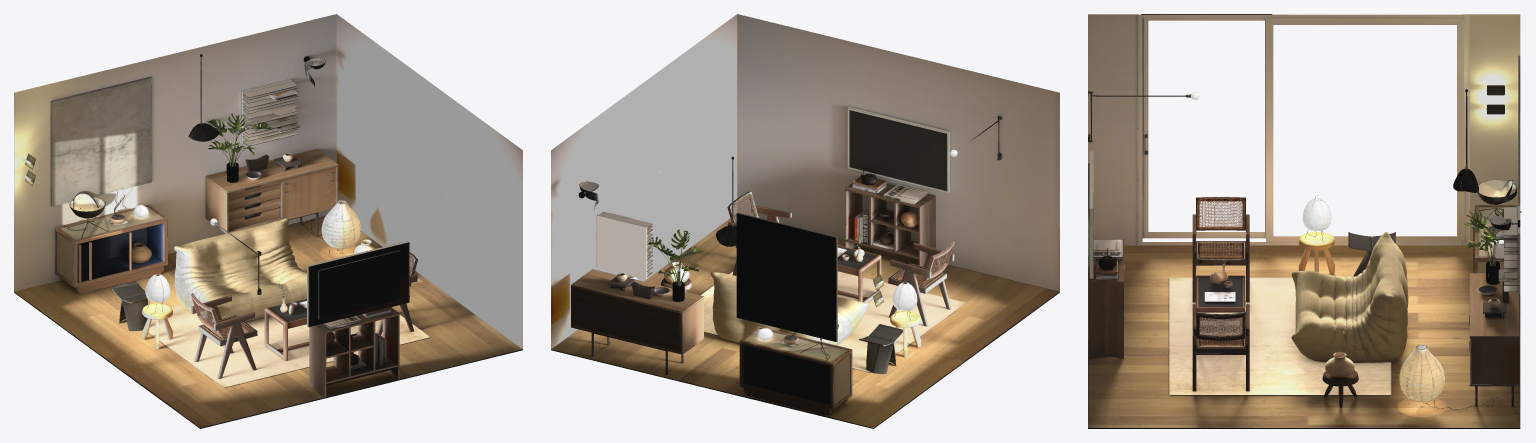
File: compressed_alt4.glb
3 renders of one model, left to right at view 1: azimuth 30°, elevation 25°; view 2: azimuth 150°, elevation 25°; view 3: azimuth 270°, elevation 25°, orthographic. The views are drawn at different scales.
Visible parts, largest first — view 1: alt44_Baked.004; view 2: alt44_Baked.004; view 3: alt44_Baked.004.
Boxes of the visible parts, <box> form: alt44_Baked.004: <box>14,14,522,428</box>; alt44_Baked.004: <box>551,14,1059,428</box>; alt44_Baked.004: <box>1088,14,1521,428</box>.
Bounding box in the file's own units: 3.91 × 2.48 × 3.91.
1 material, 1 textured.
